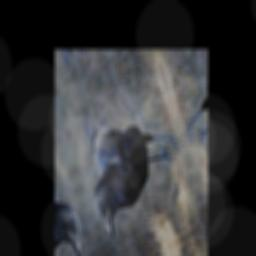Crow: (71, 79, 192, 243)
